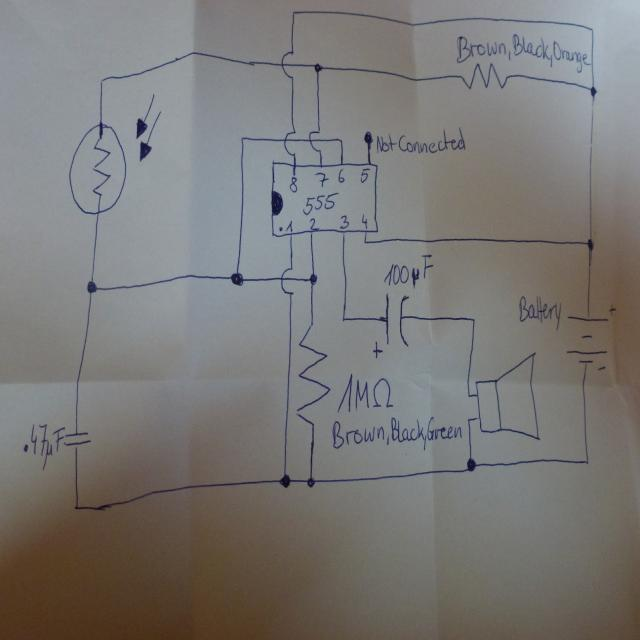capacitor: (370, 290, 410, 360), (60, 428, 91, 449)
crossover: (278, 265, 297, 295), (279, 46, 295, 78), (306, 126, 324, 150), (283, 127, 298, 152)
junction: (83, 275, 102, 298), (275, 468, 293, 490), (303, 471, 319, 492), (463, 454, 478, 473), (229, 269, 244, 287), (588, 82, 599, 100), (312, 58, 322, 74), (307, 272, 318, 286), (97, 74, 107, 89), (71, 500, 82, 513), (585, 236, 595, 250), (289, 7, 299, 20), (468, 313, 478, 324), (587, 24, 596, 35), (340, 313, 348, 324), (583, 454, 590, 466), (238, 134, 246, 144), (466, 416, 472, 425), (362, 237, 368, 246), (337, 135, 343, 143), (466, 391, 471, 399)
resistor: (68, 90, 162, 216), (294, 316, 328, 438), (454, 60, 512, 96)
source: (561, 310, 615, 370)
terminal: (362, 130, 373, 150)
text: (328, 412, 466, 449), (452, 32, 592, 65), (373, 130, 467, 155), (337, 372, 394, 413), (24, 422, 61, 471), (382, 256, 432, 287), (517, 294, 561, 328), (302, 190, 338, 215), (315, 170, 326, 188), (288, 173, 298, 192), (278, 220, 292, 232), (339, 212, 349, 228), (308, 216, 318, 230), (359, 168, 368, 182), (360, 213, 368, 228), (336, 168, 344, 182)
